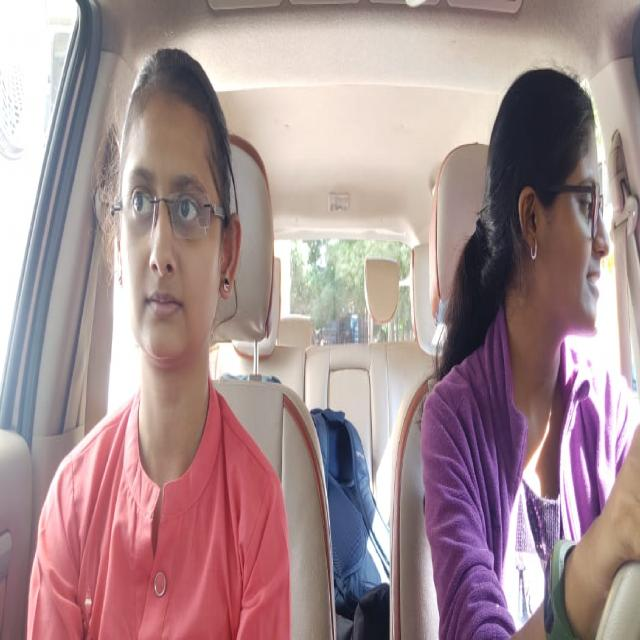LeftRight: (492, 74, 608, 350)
person: (116, 49, 240, 364)
